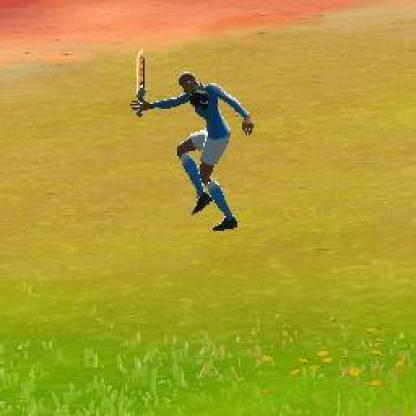dumpster: (130, 72, 255, 230)
